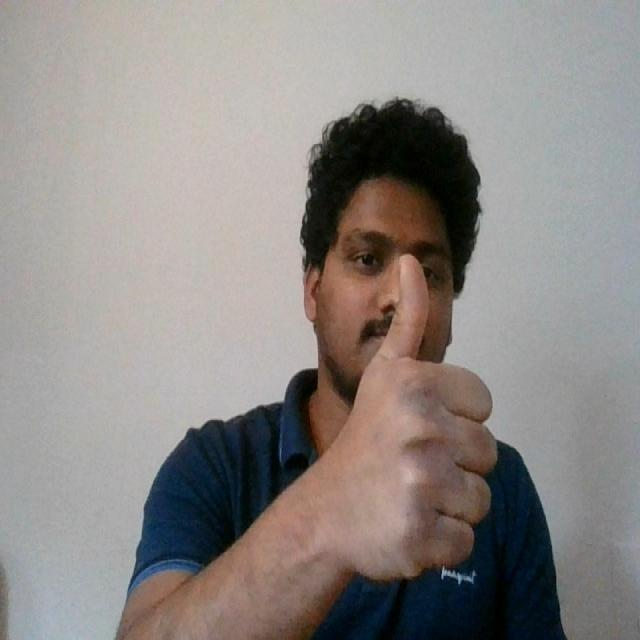Yes: (310, 248, 501, 592)
